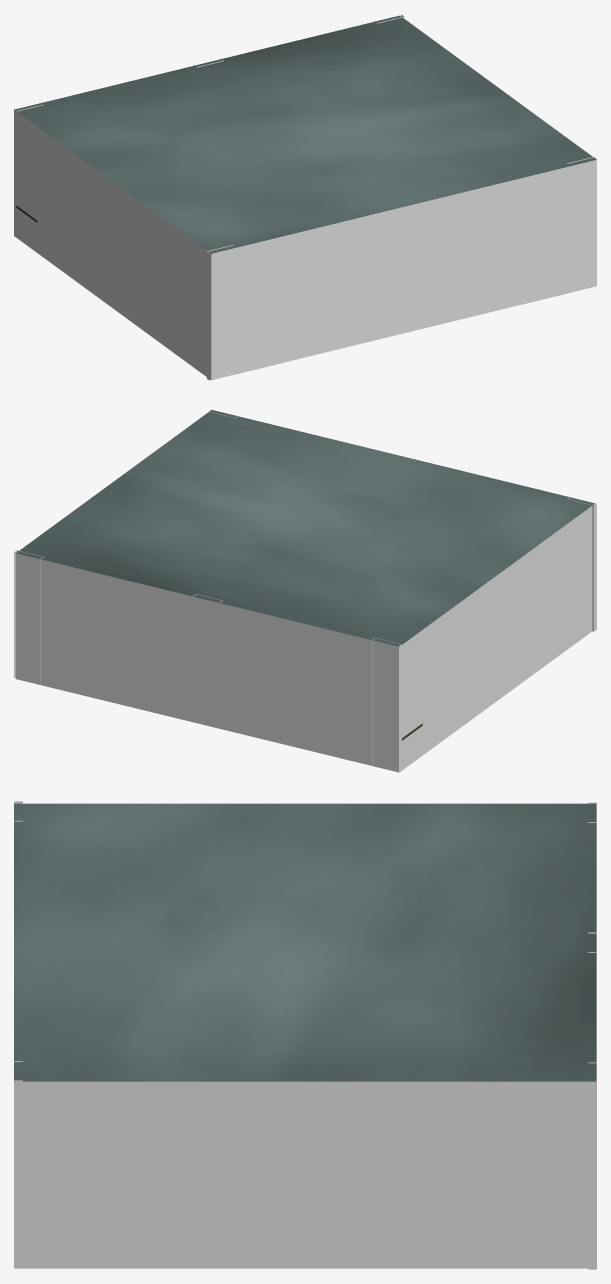
File: classrooms.fbx
3 renders of one model, top to bottom at view 1: azimuth 30°, elevation 25°; view 2: azimuth 150°, elevation 25°; view 3: azimuth 270°, elevation 25°, orthographic. The views are drawn at different scales.
Parts seen in each view (by area): view 1: Cube, Cube.004; view 2: Cube, Cube.004; view 3: Cube, Cube.008.
Boxes of the visible parts, x1,y1,x2,y2 form: Cube: [14, 15, 596, 380]; Cube.004: [206, 245, 236, 380]; Cube: [15, 410, 595, 772]; Cube.004: [567, 497, 596, 631]; Cube: [14, 803, 596, 1268]; Cube.008: [588, 1062, 596, 1269].
Bounding box in the file's own units: 657 × 207 × 578.
